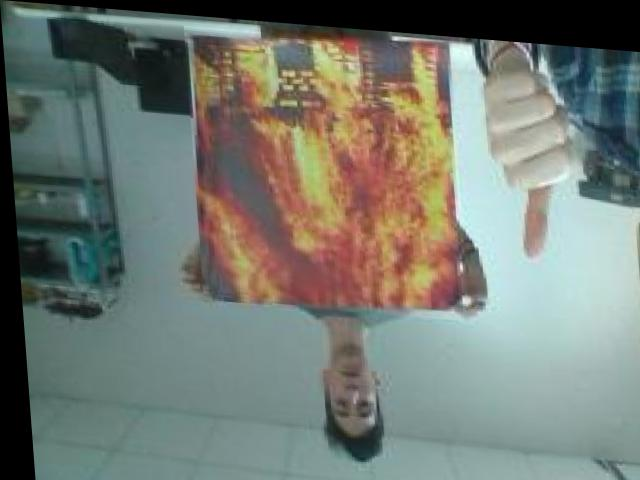fire-poster: (177, 13, 471, 316)
